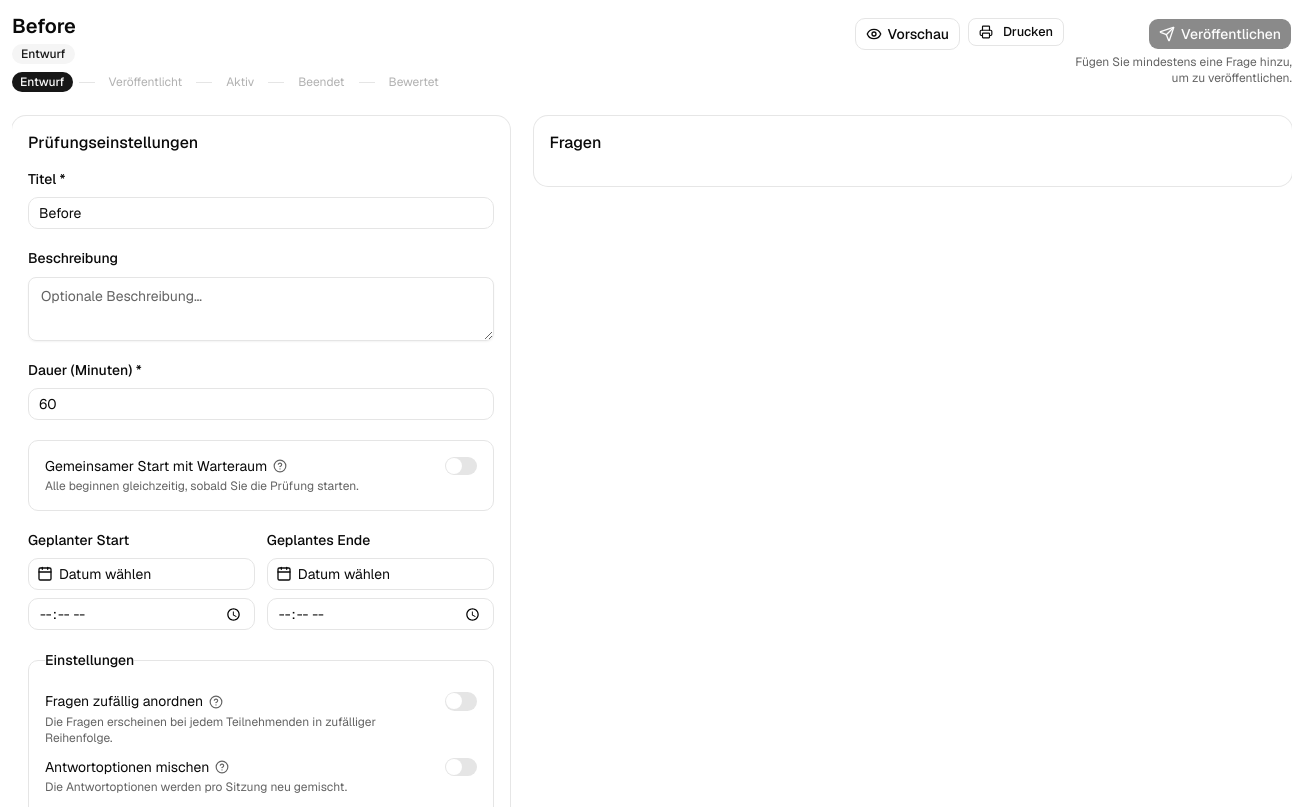
reports a rejected metadata PATCH and clears the error on the next save
Replace the text in the field labelled "Titel *" with "After": x=261, y=213 [28,197,494,229]
Wait 700 ms
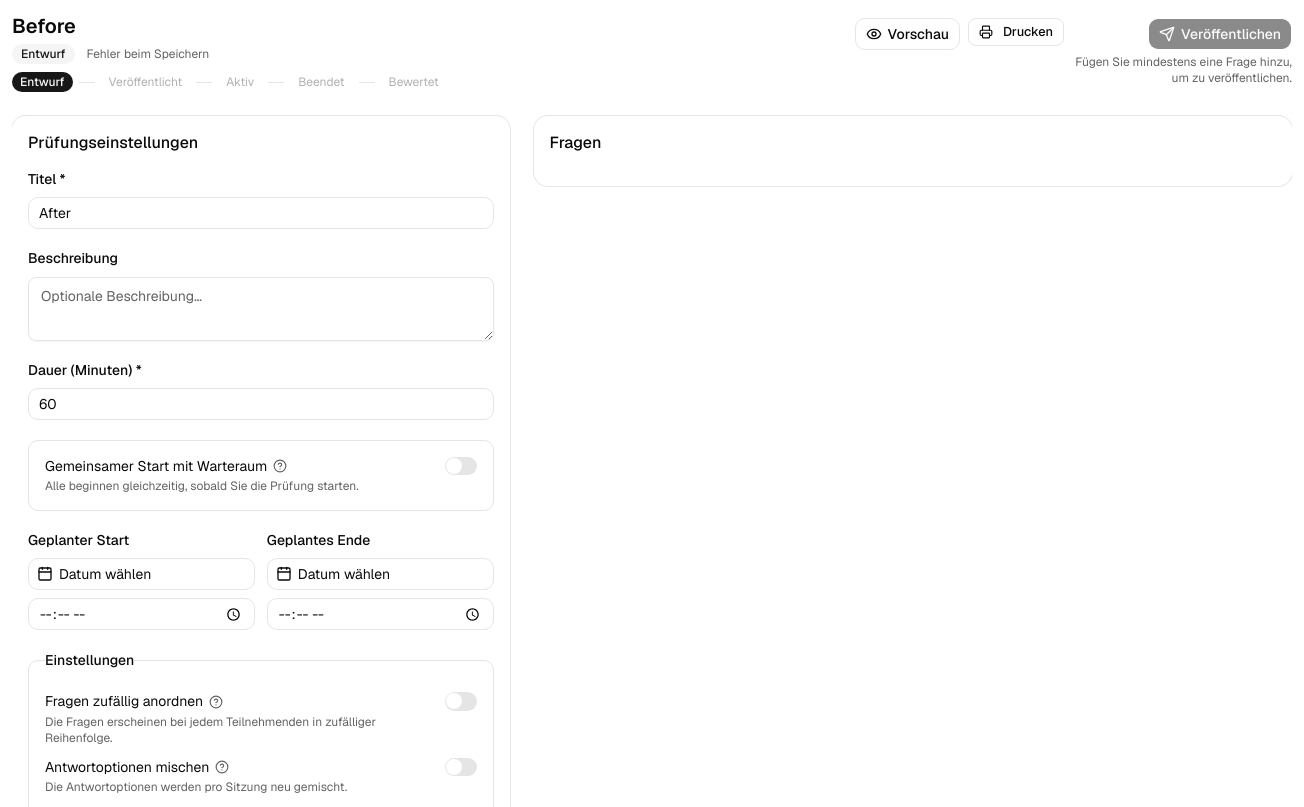
Expected: the message with test id "metadata-save-status" does not show "Gespeichert", [86,46,209,62]
Result: the message with test id "metadata-save-status" reads "Fehler beim Speichern" at [86,46,209,62]
Replace the text in the field labelled "Titel *" with "After again": x=261, y=213 [28,197,494,229]
Wait 700 ms
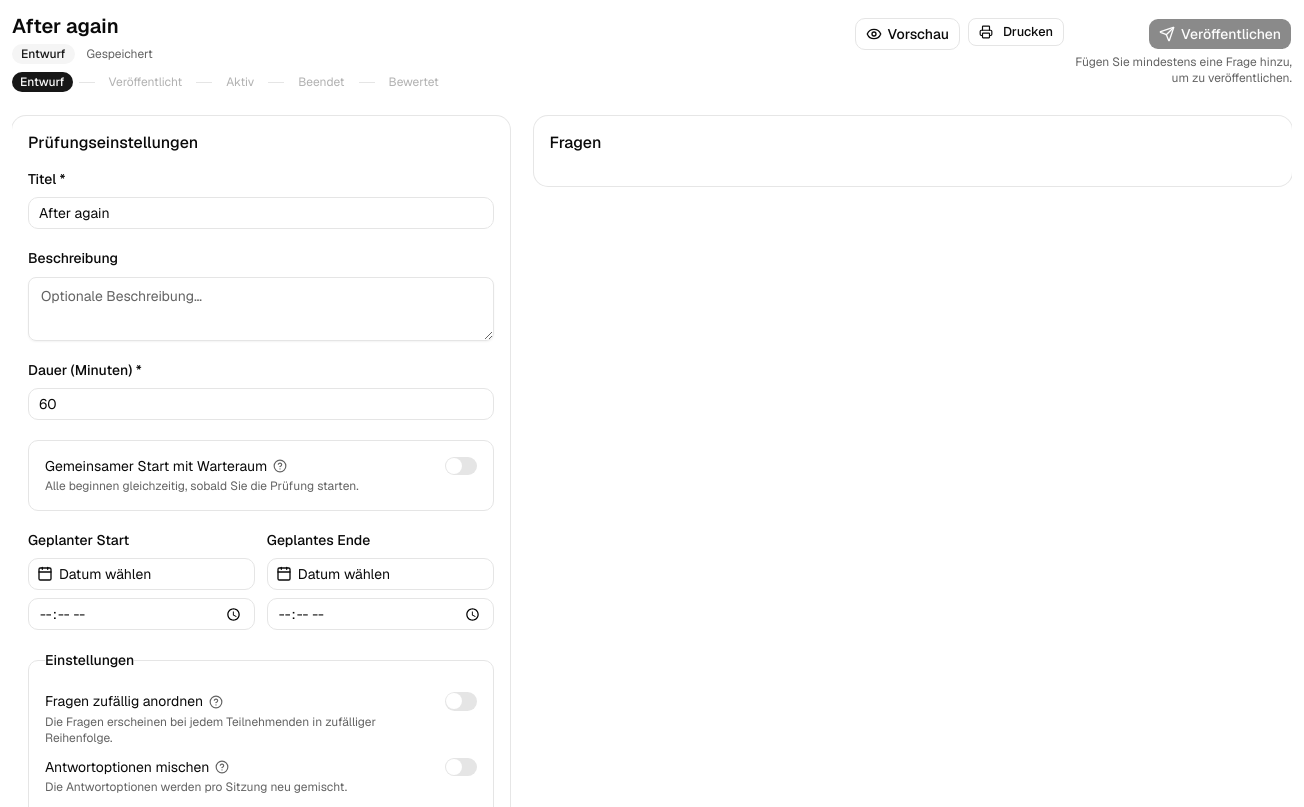
Result: the message with test id "metadata-save-status" reads "Gespeichert" at [86,46,153,62]
